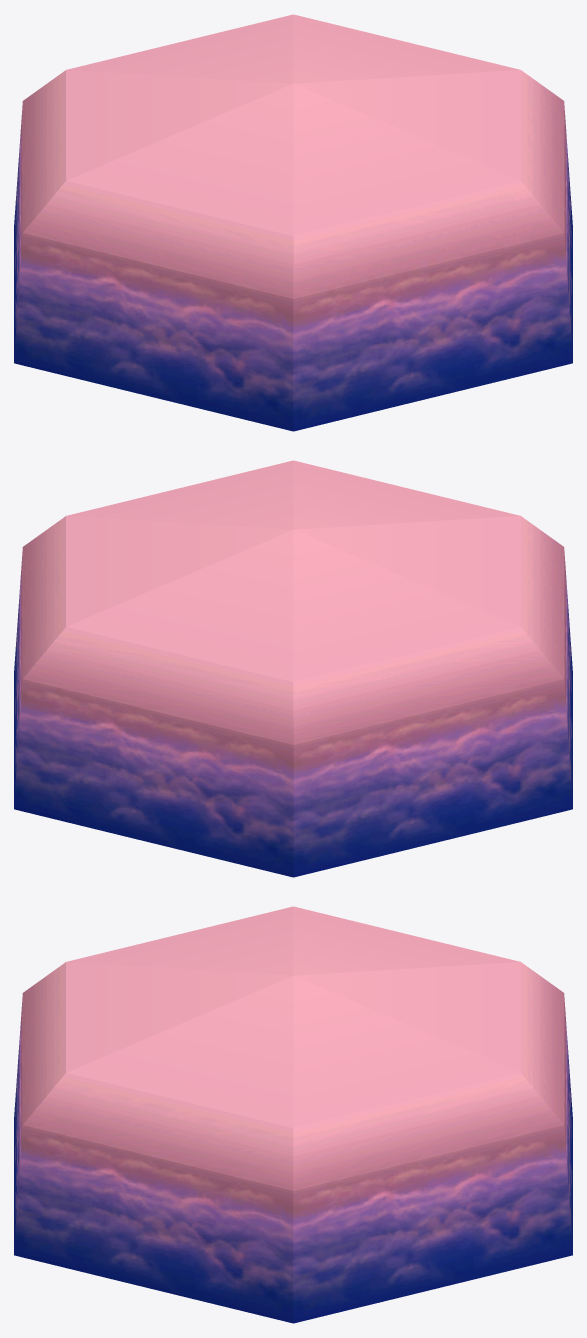
Rendered from airship_course_V.glb.
3 renders of one model, top to bottom at view 1: azimuth 30°, elevation 25°; view 2: azimuth 150°, elevation 25°; view 3: azimuth 270°, elevation 25°, orthographic.
Visible parts, largest first — view 1: airship_course_V; view 2: airship_course_V; view 3: airship_course_V.
Boxes of the visible parts, x1,y1,x2,y2 form: airship_course_V: (14,14,572,431); airship_course_V: (14,460,572,877); airship_course_V: (14,906,572,1323).
Bounding box in the file's own units: 1503 × 640 × 1302.
1 material, 1 textured.
